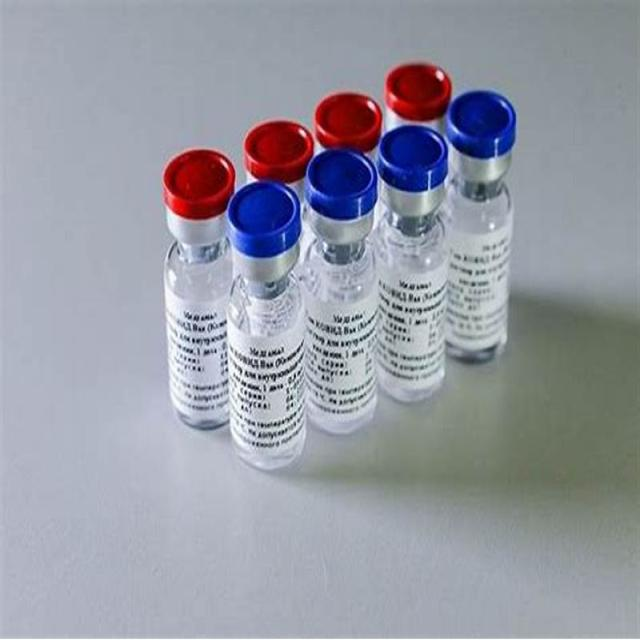vial: (222, 177, 304, 259), (380, 118, 449, 189), (303, 149, 382, 211), (450, 92, 517, 160), (388, 45, 452, 113), (159, 149, 241, 199), (313, 92, 388, 146), (247, 122, 307, 171)
